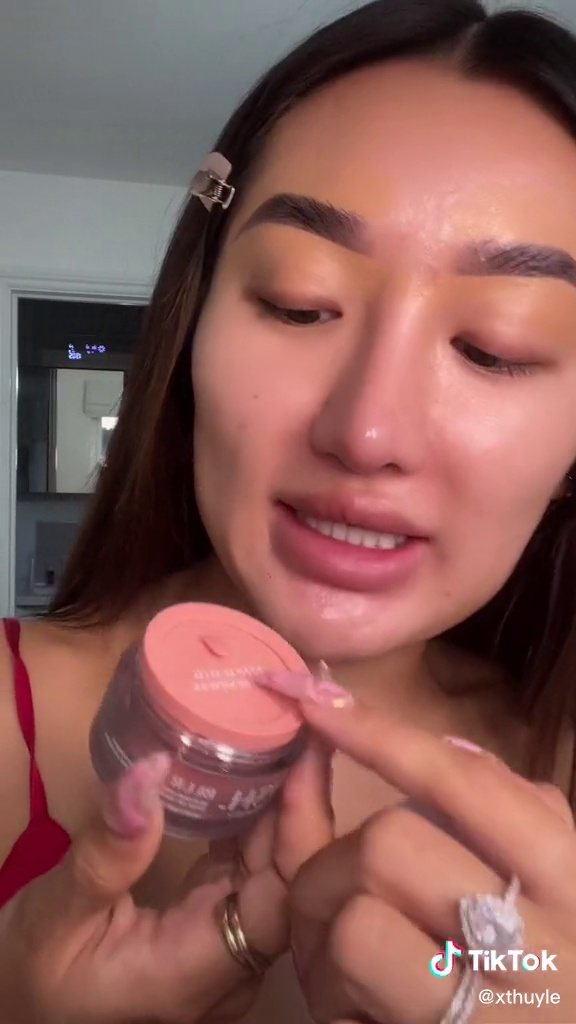train' :'yolo_data/train/images',: (69, 584, 334, 840)
